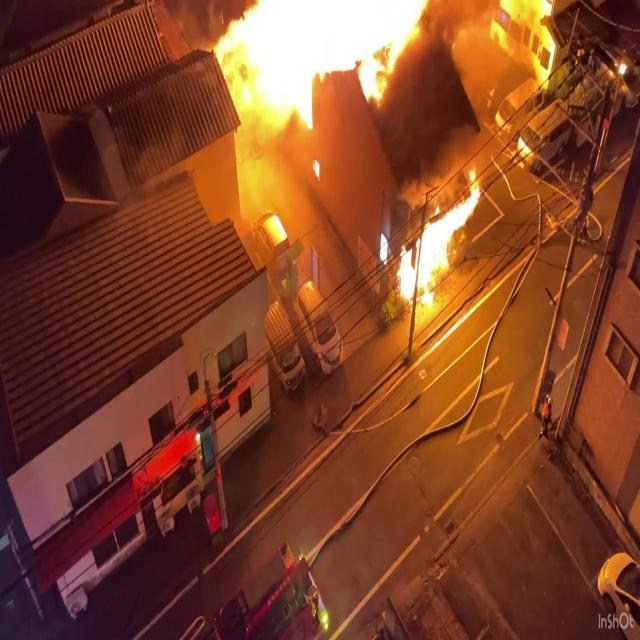Fire: (211, 0, 429, 136), (390, 168, 488, 312)
